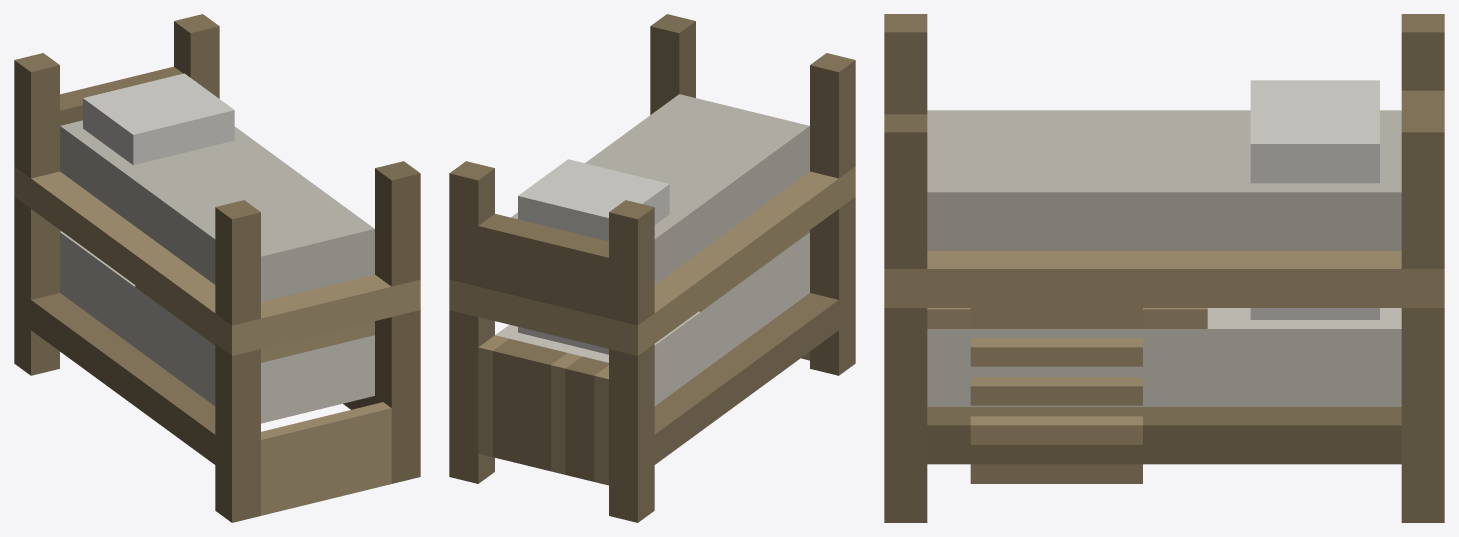
File: litera_marinero_desgastada_01.glb
The picture shows the model from 3 angles, left to right: view 1: azimuth 30°, elevation 25°; view 2: azimuth 150°, elevation 25°; view 3: azimuth 270°, elevation 25°; orthographic projection. The views are drawn at different scales.
Visible parts, largest first — view 1: litera_marinero_desgastada; view 2: litera_marinero_desgastada; view 3: litera_marinero_desgastada.
Boxes of the visible parts, left/top/right/bottom form: litera_marinero_desgastada: left=14, top=14, right=420, bottom=522; litera_marinero_desgastada: left=449, top=14, right=855, bottom=522; litera_marinero_desgastada: left=884, top=14, right=1444, bottom=522.
Bounding box in the file's own units: 1 × 1.54 × 2.
